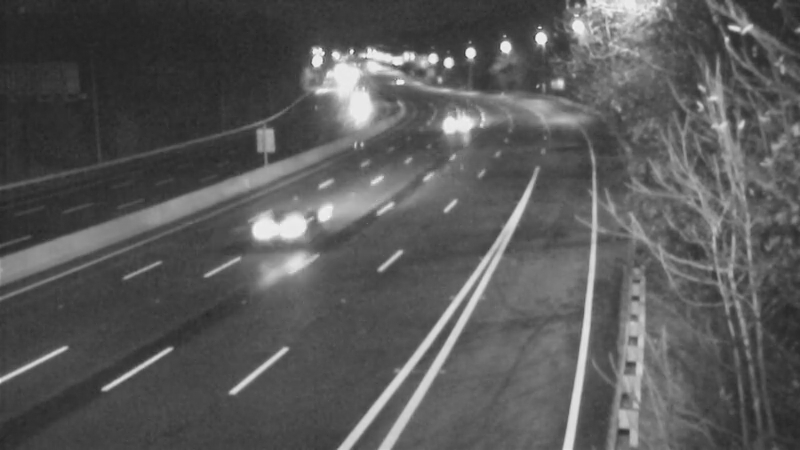vehicle: (248, 185, 328, 265), (373, 58, 423, 108), (430, 95, 480, 145), (328, 87, 378, 137)
